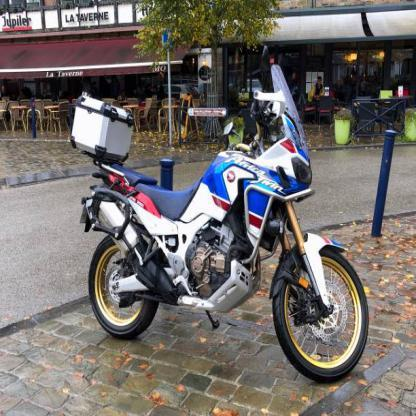Motorcycle: (58, 60, 372, 380)
